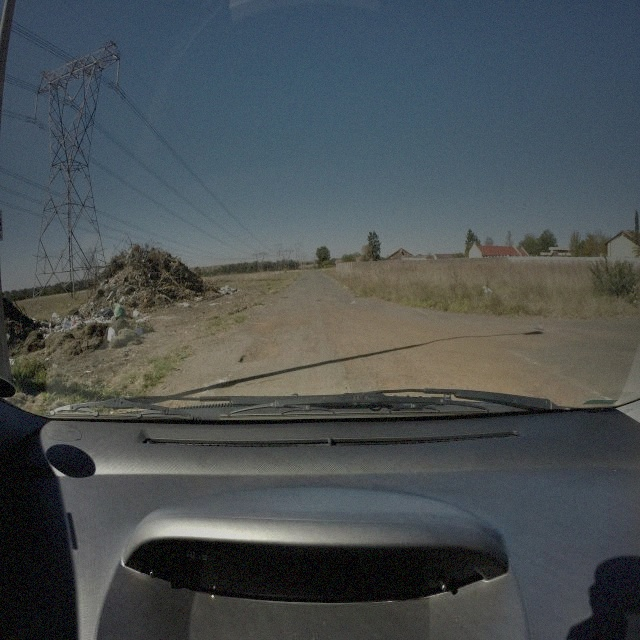pothole: (238, 342, 280, 366), (378, 377, 402, 393)
